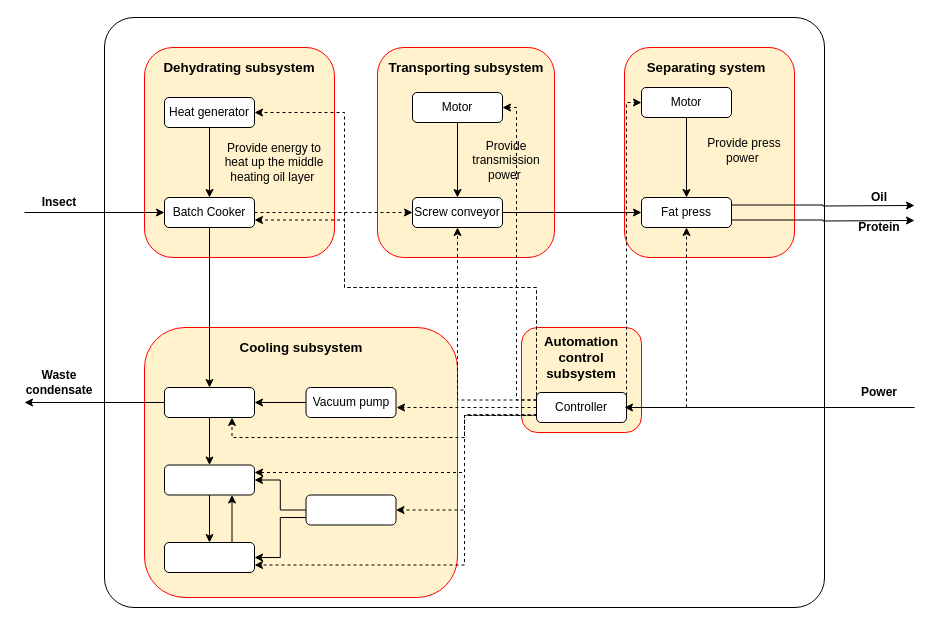
The diagram is 940 pixels wide and 625 high, and some of its shapes have lost their labels. The box of each missing label's shape, as (x1, y1, x2, y2) in pixels:
Condenser: (164, 386, 254, 418)
Cooling tower: (164, 464, 254, 495)
Water tank: (164, 542, 254, 572)
Watering pump: (305, 494, 396, 525)
